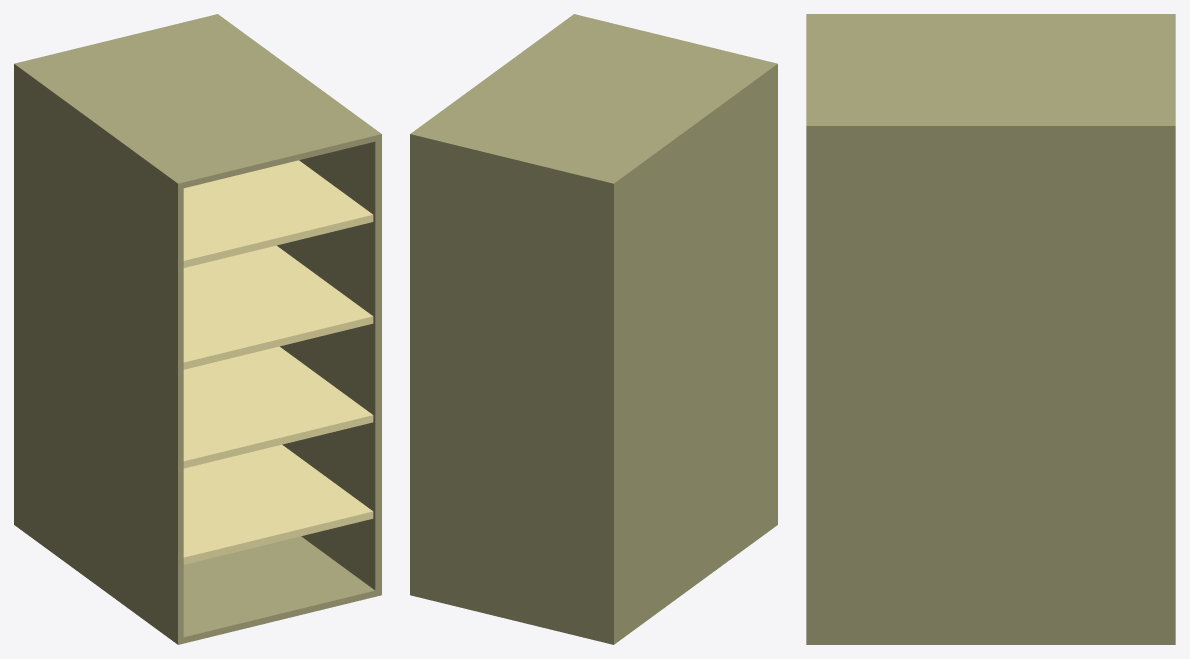
The model's file is emptycupboard.fbx.
3 renders of one model, left to right at view 1: azimuth 30°, elevation 25°; view 2: azimuth 150°, elevation 25°; view 3: azimuth 270°, elevation 25°, orthographic. The views are drawn at different scales.
Parts seen in each view (by area): view 1: Cube, Cube.003, Cube.002, Cube.001, Cube.004; view 2: Cube; view 3: Cube.
Boxes of the visible parts, x1=… form: Cube: x1=14, y1=14, x2=381, y2=644; Cube.003: x1=183, y1=245, x2=373, y2=369; Cube.002: x1=183, y1=346, x2=373, y2=468; Cube.001: x1=183, y1=444, x2=373, y2=564; Cube.004: x1=183, y1=160, x2=373, y2=267; Cube: x1=410, y1=14, x2=777, y2=644; Cube: x1=806, y1=14, x2=1175, y2=644.
Size of the model in its own units: 85.94 by 186 by 120.
